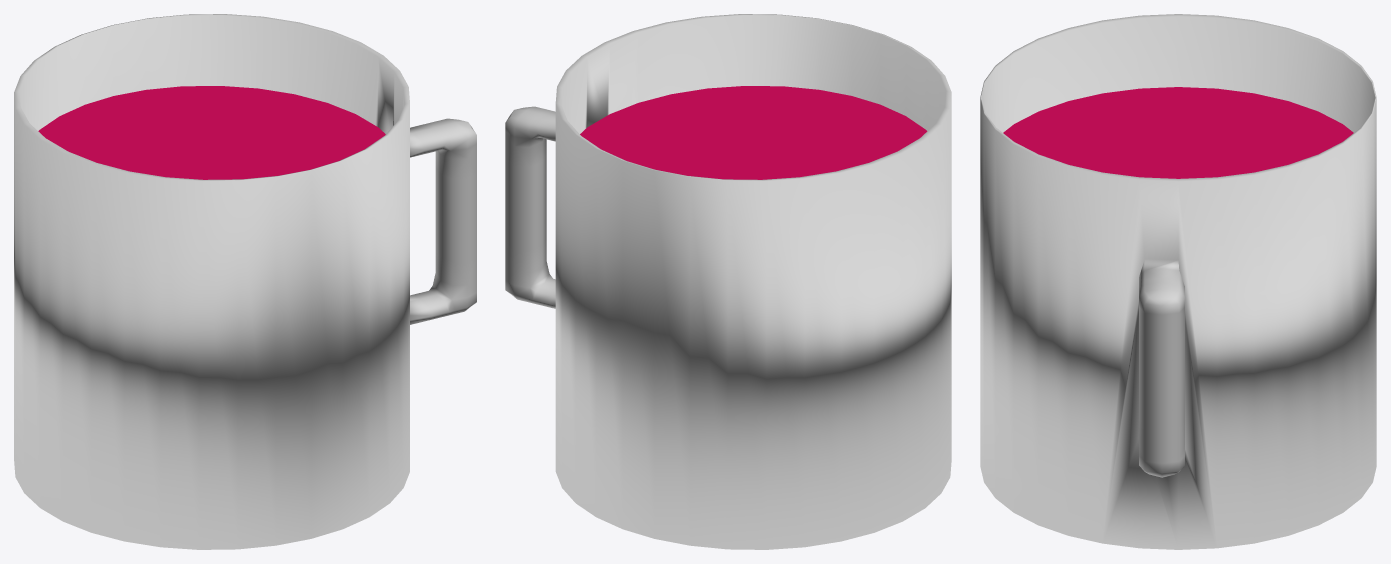
The model's file is Coffeemug.fbx.
The picture shows the model from 3 angles, left to right: view 1: azimuth 30°, elevation 25°; view 2: azimuth 150°, elevation 25°; view 3: azimuth 270°, elevation 25°; orthographic projection.
Visible parts, largest first — view 1: Coffeemug; view 2: Coffeemug; view 3: Coffeemug.
Boxes of the visible parts, left/top/right/bottom form: Coffeemug: left=14, top=14, right=476, bottom=549; Coffeemug: left=505, top=14, right=951, bottom=549; Coffeemug: left=980, top=14, right=1376, bottom=549.
Size of the model in its own units: 59.83 by 49.74 by 48.52.
